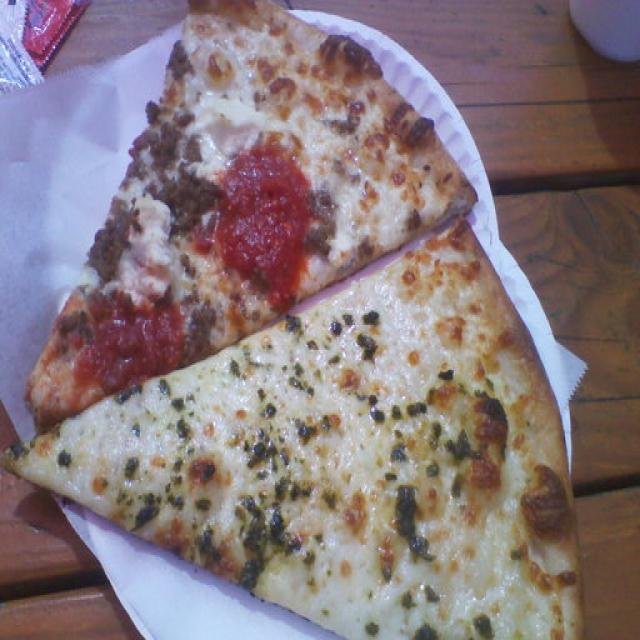Basil: (238, 491, 304, 563), (247, 430, 290, 481), (396, 480, 422, 550), (443, 429, 484, 468), (239, 345, 276, 379), (290, 358, 318, 401), (470, 608, 504, 640), (238, 554, 271, 584), (357, 331, 383, 362), (112, 384, 148, 406), (409, 530, 431, 564), (133, 505, 160, 530), (396, 585, 421, 611), (224, 356, 248, 383), (283, 479, 313, 500), (270, 472, 294, 498), (164, 487, 189, 511), (401, 398, 431, 418), (414, 621, 442, 640), (452, 466, 468, 499), (363, 614, 385, 638), (282, 308, 300, 336), (421, 456, 440, 482), (140, 488, 164, 508), (256, 396, 280, 416), (319, 488, 339, 512), (358, 308, 382, 328), (368, 404, 388, 428), (177, 287, 204, 304), (176, 414, 193, 438), (120, 458, 141, 477), (329, 318, 347, 340), (394, 441, 411, 464), (426, 582, 442, 606), (437, 366, 457, 382), (58, 449, 76, 466), (383, 464, 400, 482), (340, 310, 355, 330), (157, 379, 172, 396), (388, 401, 403, 418), (304, 334, 318, 352), (170, 456, 185, 472), (431, 422, 442, 439), (170, 473, 183, 485), (175, 393, 184, 410), (186, 394, 197, 407), (186, 446, 196, 457)
Beef: (128, 107, 196, 175), (161, 167, 224, 234), (92, 206, 134, 275), (306, 184, 335, 256), (180, 306, 216, 354), (62, 306, 93, 344), (171, 45, 191, 78), (180, 247, 199, 281), (148, 285, 170, 306), (118, 289, 138, 307)
Pizza: (5, 220, 581, 638), (26, 2, 475, 428)
